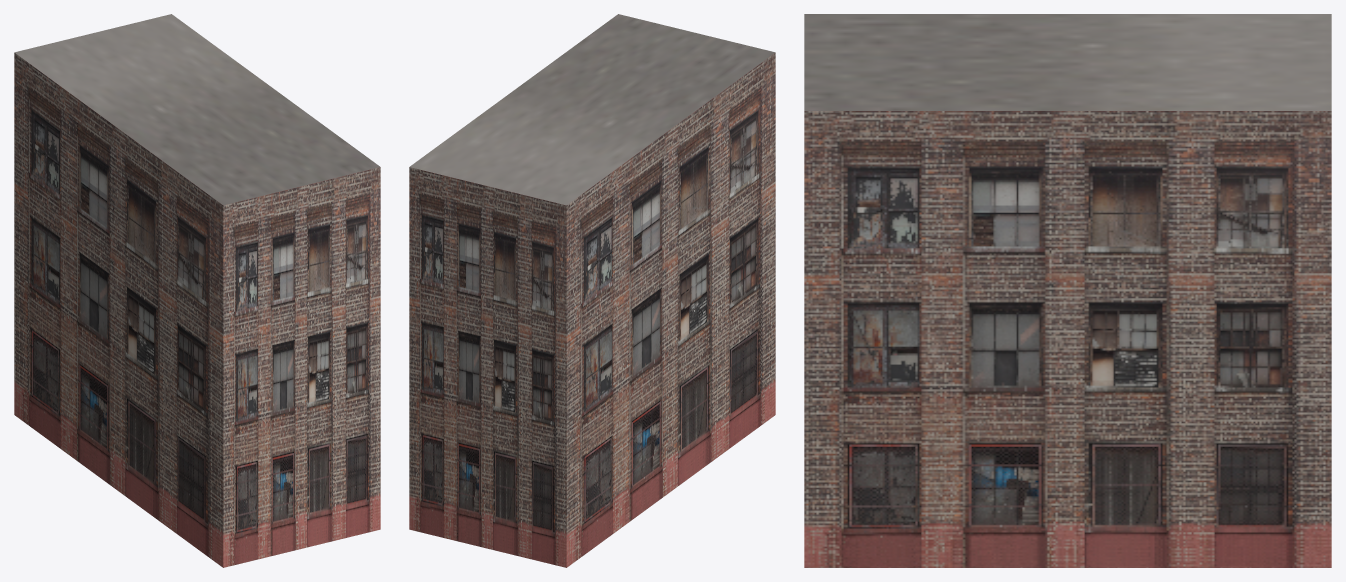
The model's file is LongTallBuilding.fbx.
The picture shows the model from 3 angles, left to right: view 1: azimuth 30°, elevation 25°; view 2: azimuth 150°, elevation 25°; view 3: azimuth 270°, elevation 25°; orthographic projection. The views are drawn at different scales.
Parts seen in each view (by area): view 1: Cube; view 2: Cube; view 3: Cube.
Part boxes in pixels (x1,y1,x2,y2): Cube: [14, 14, 380, 567]; Cube: [409, 14, 775, 567]; Cube: [804, 14, 1331, 567].
Size of the model in its own units: 1000 by 2200 by 2300.
2 materials, 2 textured.
